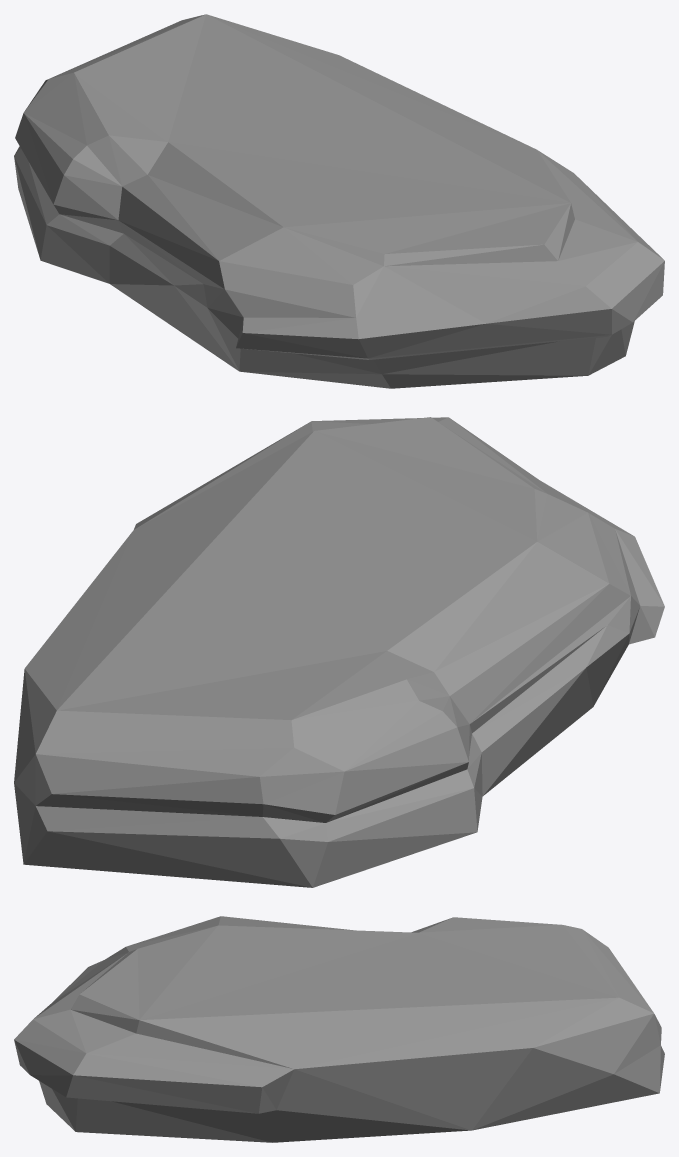
File: EM_Stone8.fbx
3 views of the same model, one above another, from view 1: azimuth 30°, elevation 25°; view 2: azimuth 150°, elevation 25°; view 3: azimuth 270°, elevation 25° (orthographic). The views are drawn at different scales.
Visible parts, largest first — view 1: EM_Stone8_LOD0; view 2: EM_Stone8_LOD0; view 3: EM_Stone8_LOD0.
Boxes of the visible parts, x1=… form: EM_Stone8_LOD0: x1=14, y1=14, x2=664, y2=388; EM_Stone8_LOD0: x1=14, y1=417, x2=664, y2=887; EM_Stone8_LOD0: x1=14, y1=916, x2=664, y2=1142.
Size of what is drawn, in the model's own units: 3.96 by 1.25 by 6.6.
